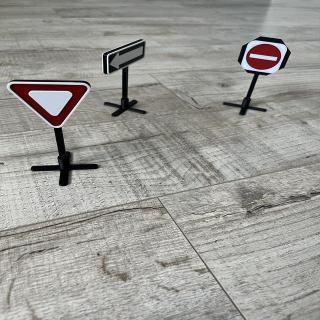sign_noentry: (241, 40, 290, 77)
sign_oneway_left: (103, 40, 147, 77)
sign_yield: (8, 81, 94, 131)
